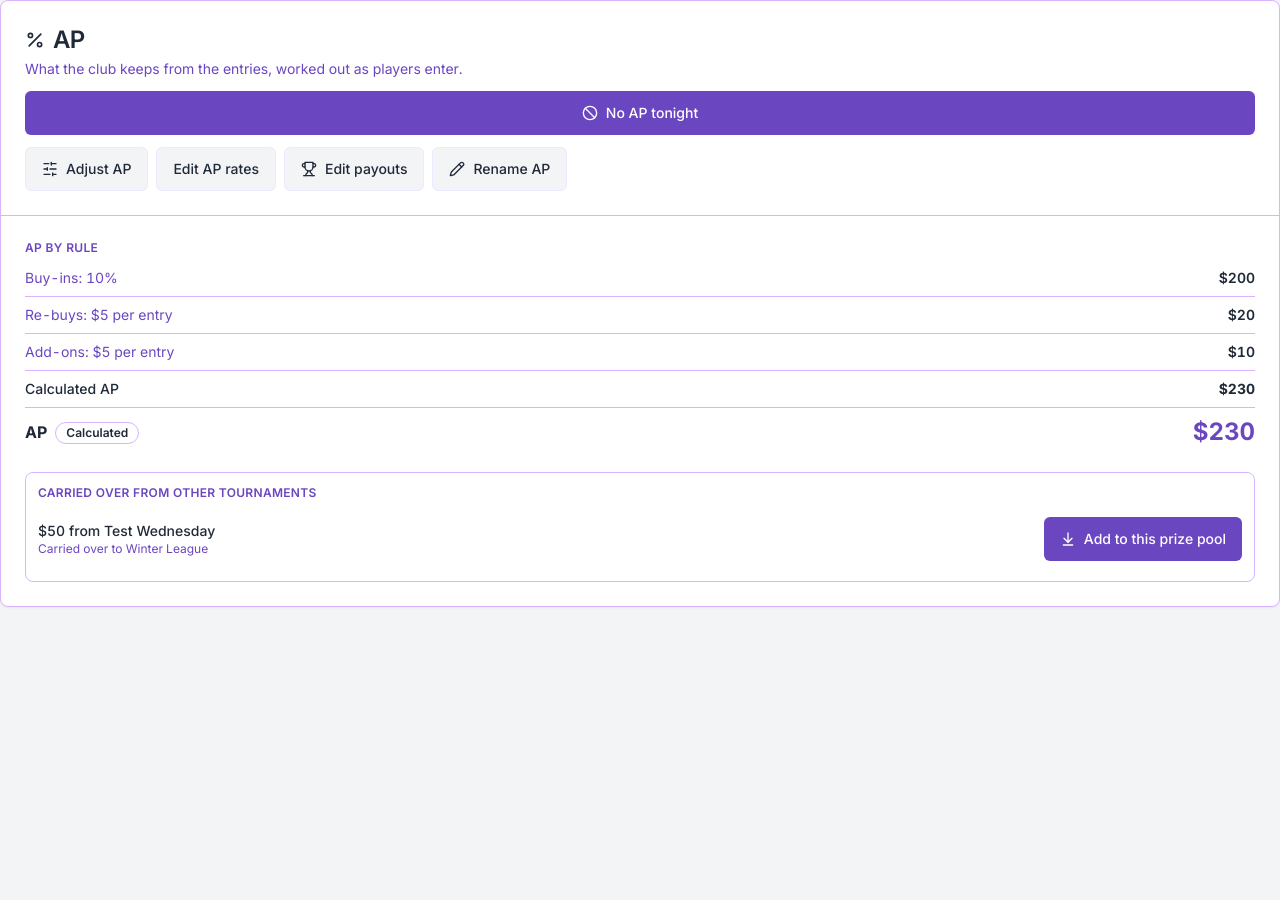
Scenario: ApPanel › offers the money other tournaments carried over, adds it in one tap, and takes it out again
Expected: the list item with test id "carry-over-co1" shows "$50 from Test Wednesday", [38, 509, 1242, 569]
Expected: the list item with test id "carry-over-co1" shows "Carried over to Winter League", [38, 541, 208, 556]
What coordinates should you click on to do the following:
click the button with aria-label "Add the $50 from Test Wednesday to this prize pool"
I would click on:
 (1143, 539)
Its box is [1044, 517, 1242, 561].
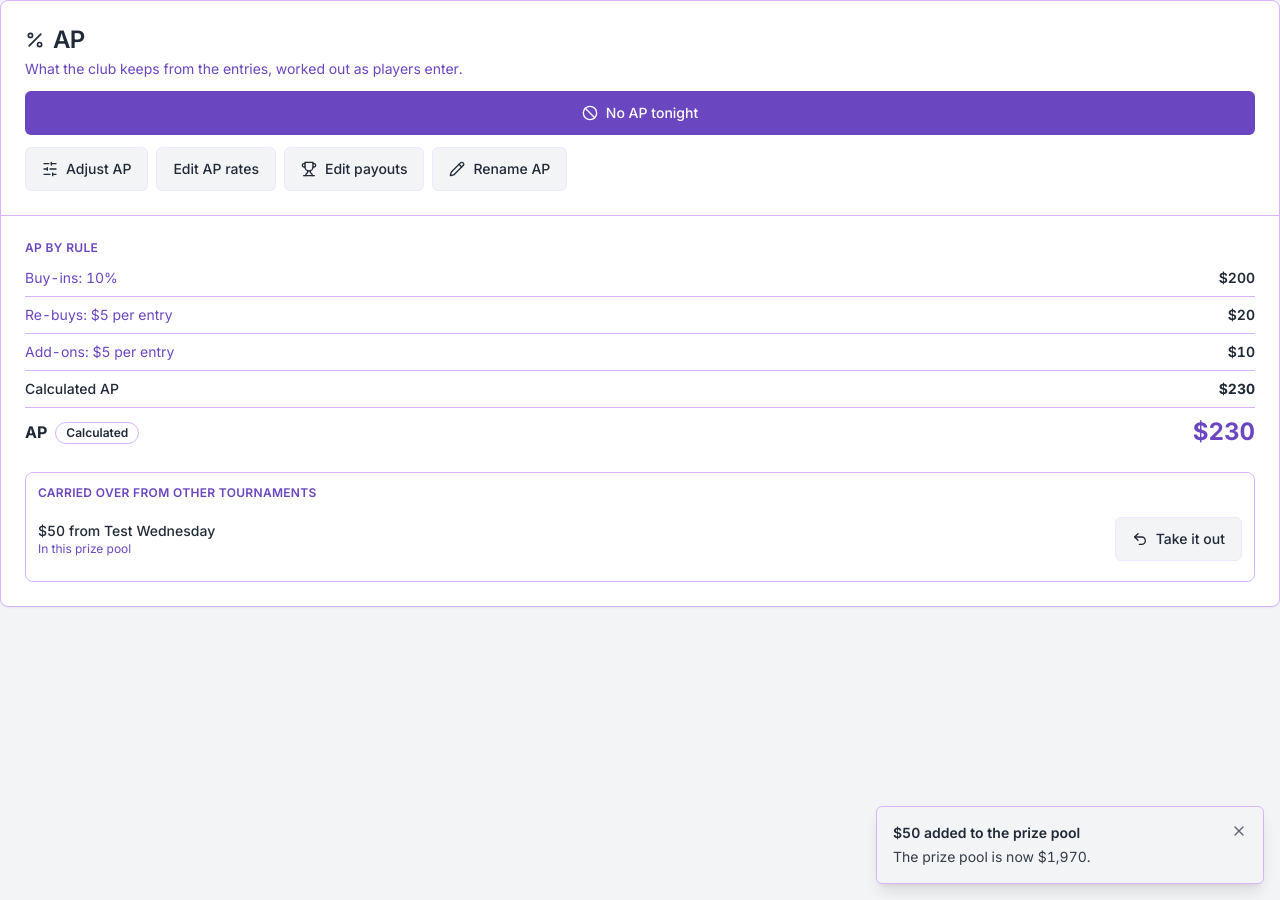
Now the text "$50 added to the prize pool" is shown, box [893, 824, 1080, 841]
Now the text "The prize pool is now $1,970." is shown, box [893, 848, 1091, 865]
Now the list item with test id "carried-in-co1" shows "In this prize pool", box [38, 541, 131, 556]
What coordinates should you click on to do the following:
click the button with aria-label "Take the $50 from Test Wednesday out of the prize pool"
I would click on:
 (1178, 539)
Its box is [1115, 517, 1242, 561].
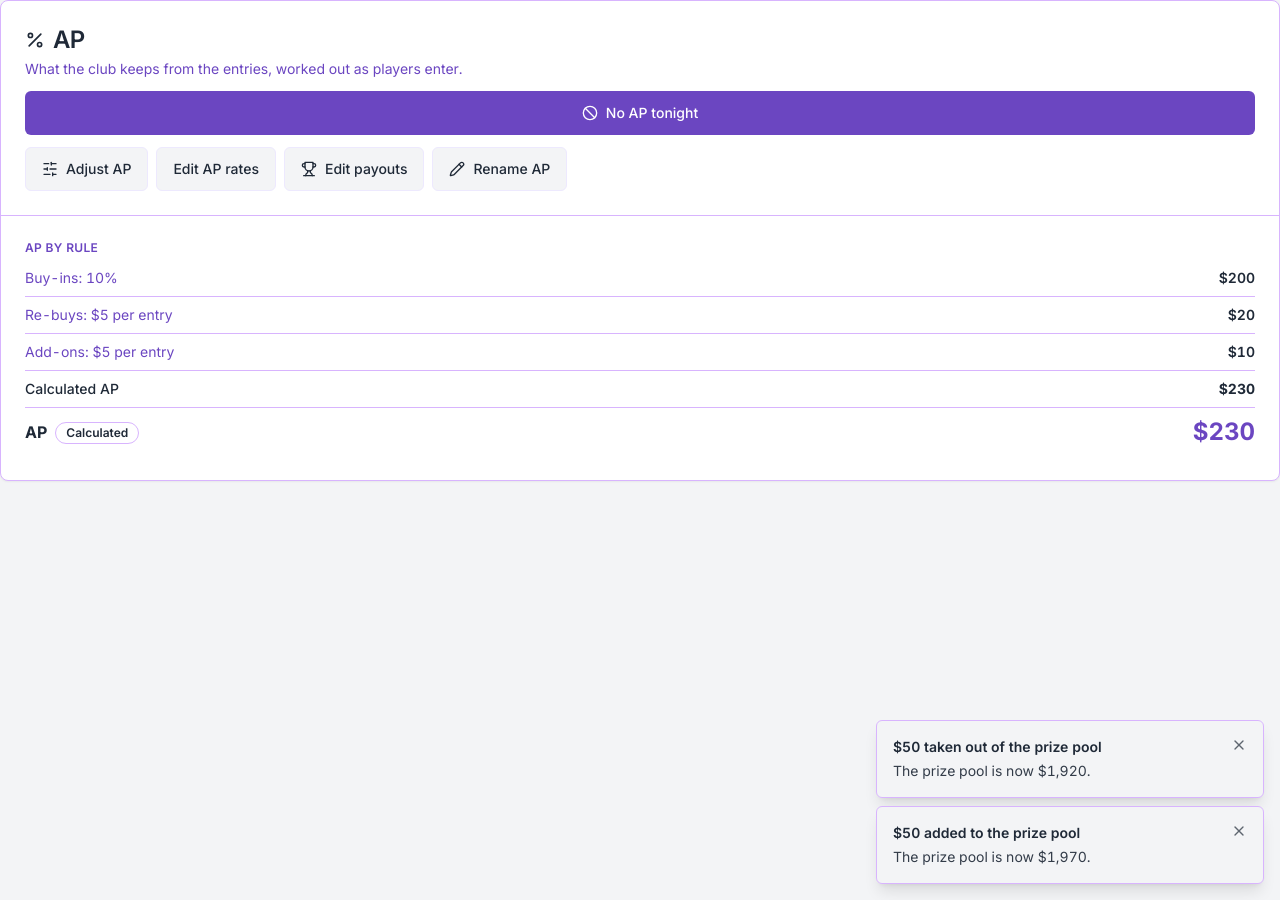
Now the text "$50 taken out of the prize pool" is shown, box [893, 738, 1102, 755]
